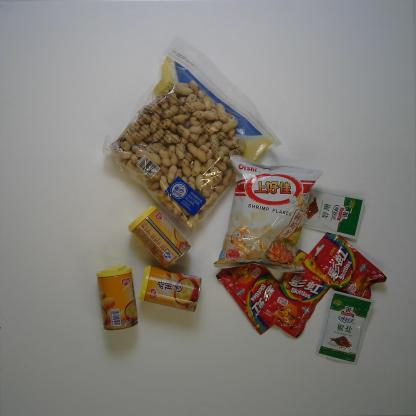Candy: (257, 248, 332, 340), (300, 232, 388, 300), (215, 263, 281, 336)
Canned Food: (127, 204, 192, 270), (137, 264, 202, 313), (95, 264, 139, 331)
Dried Food: (101, 39, 284, 240)
Puffed Food: (212, 154, 324, 274)
Seasoner: (314, 288, 376, 366), (302, 187, 366, 241)
